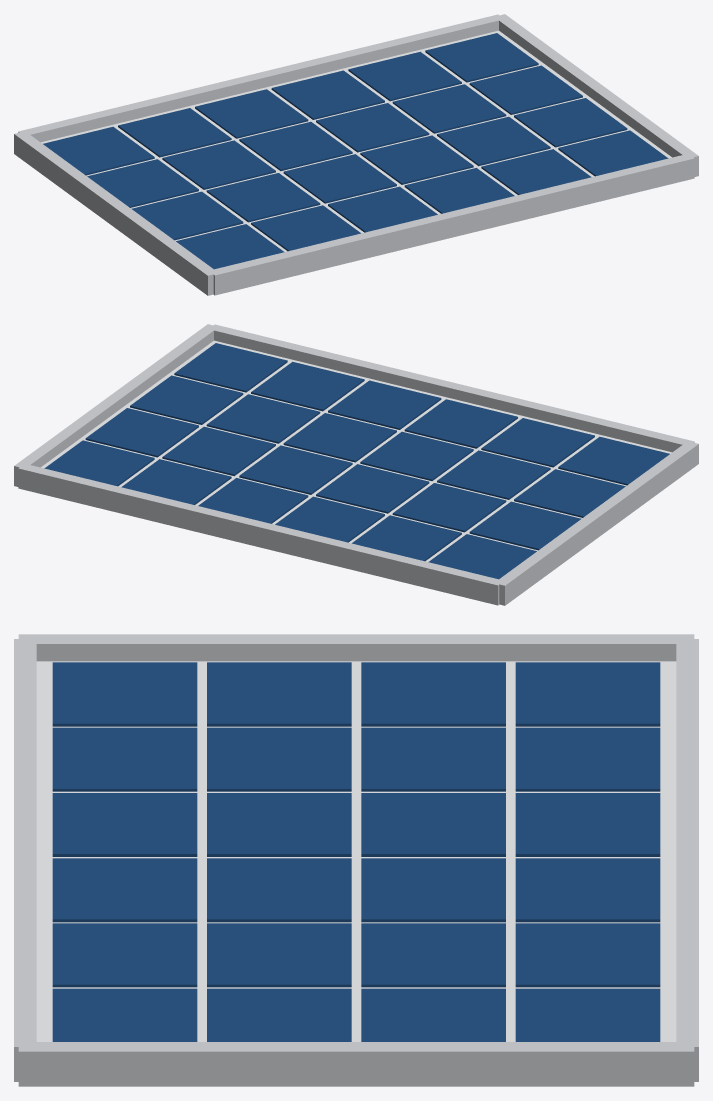
File: solar-cell__model3d__solar-panel.glb
3 renders of one model, top to bottom at view 1: azimuth 30°, elevation 25°; view 2: azimuth 150°, elevation 25°; view 3: azimuth 270°, elevation 25°, orthographic. The views are drawn at different scales.
Visible parts, largest first — view 1: End frame 0.103, End frame -0.103, Panel backsheet, Side frame -0.15, Side frame 0.15, PV cell 2 1, PV cell 2 2, PV cell 0 1, PV cell 1 1, PV cell 0 5, PV cell 2 3, PV cell 0 3 (+17 smaller); view 2: End frame -0.103, End frame 0.103, Panel backsheet, Side frame -0.15, Side frame 0.15, PV cell 1 1, PV cell 1 2, PV cell 2 1, PV cell 3 1, PV cell 1 3, PV cell 3 5, PV cell 1 5 (+17 smaller); view 3: Panel backsheet, Side frame 0.15, Side frame -0.15, PV cell 0 0, PV cell 3 0, PV cell 0 1, PV cell 0 3, PV cell 0 4, PV cell 3 1, PV cell 3 3, PV cell 3 4, End frame 0.103 (+17 smaller).
Part boxes in pixels (x1,y1,x2,y2): End frame 0.103: [211, 155, 694, 295]; End frame -0.103: [18, 14, 502, 142]; Panel backsheet: [41, 30, 671, 251]; Side frame -0.15: [14, 132, 218, 295]; Side frame 0.15: [494, 14, 698, 176]; PV cell 2 1: [206, 173, 320, 222]; PV cell 2 2: [283, 154, 396, 203]; PV cell 0 1: [118, 108, 231, 157]; PV cell 1 1: [162, 140, 275, 189]; PV cell 0 5: [425, 33, 538, 82]; PV cell 2 3: [360, 135, 473, 184]; PV cell 0 3: [271, 70, 384, 119]; End frame -0.103: [18, 465, 502, 605]; End frame 0.103: [213, 324, 694, 452]; Panel backsheet: [41, 340, 671, 561]; Side frame -0.15: [494, 442, 698, 605]; Side frame 0.15: [14, 324, 218, 486]; PV cell 1 1: [392, 483, 506, 532]; PV cell 1 2: [316, 464, 429, 513]; PV cell 2 1: [437, 450, 550, 499]; PV cell 3 1: [481, 418, 594, 467]; PV cell 1 3: [239, 445, 352, 494]; PV cell 3 5: [174, 343, 287, 392]; PV cell 1 5: [85, 408, 198, 457]; Panel backsheet: [36, 661, 676, 1041]; Side frame 0.15: [18, 1042, 694, 1086]; Side frame -0.15: [18, 634, 694, 661]; PV cell 0 0: [515, 662, 660, 726]; PV cell 3 0: [52, 662, 197, 726]; PV cell 0 1: [515, 727, 660, 791]; PV cell 0 3: [515, 858, 660, 922]; PV cell 0 4: [515, 923, 660, 987]; PV cell 3 1: [52, 727, 197, 791]; PV cell 3 3: [52, 858, 197, 922]; PV cell 3 4: [52, 923, 197, 987]; End frame 0.103: [14, 639, 36, 1081].
Bounding box in the file's own units: 0.307 × 0.028 × 0.213.
